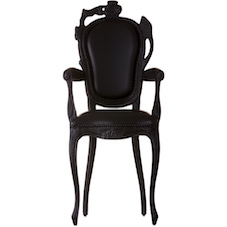chair: (40, 0, 178, 226)
